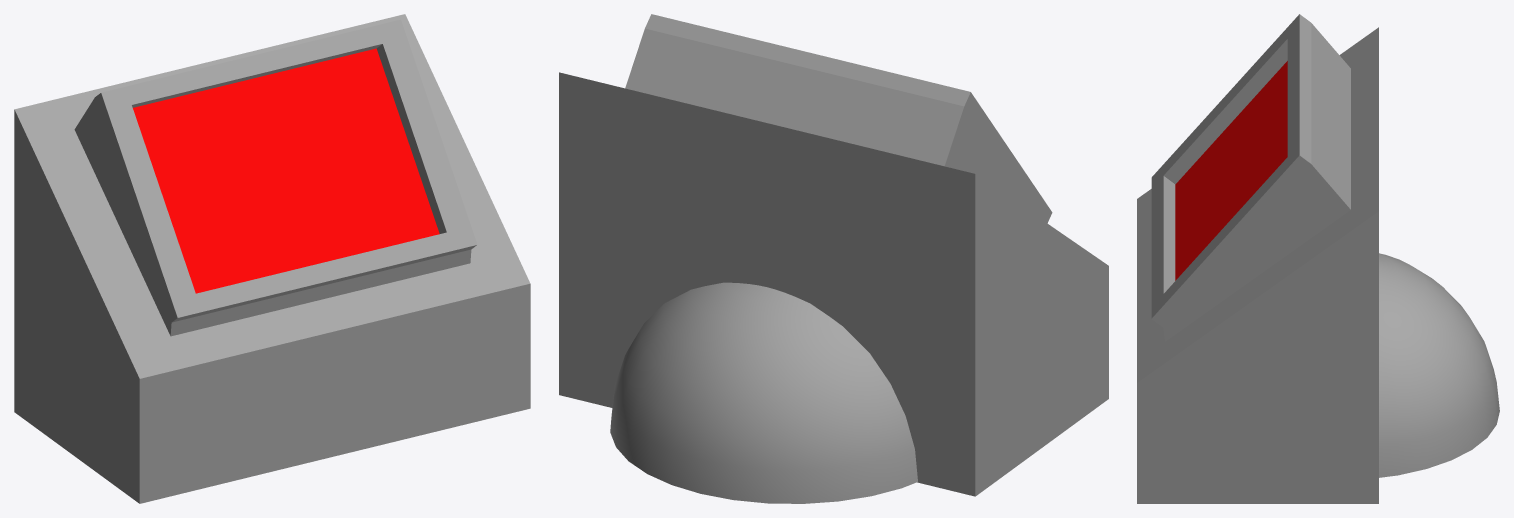
Rendered from obj_Console01_.FBX.
3 views of the same model, side by side, from view 1: azimuth 30°, elevation 25°; view 2: azimuth 150°, elevation 25°; view 3: azimuth 270°, elevation 25° (orthographic). The views are drawn at different scales.
Parts seen in each view (by area): view 1: obj_Console; view 2: obj_Console; view 3: obj_Console.
Boxes of the visible parts, x1,y1,x2,y2 form: obj_Console: (14,14,530,503); obj_Console: (559,14,1108,503); obj_Console: (1137,14,1499,503).
Bounding box in the file's own units: 200 × 166 × 167.
